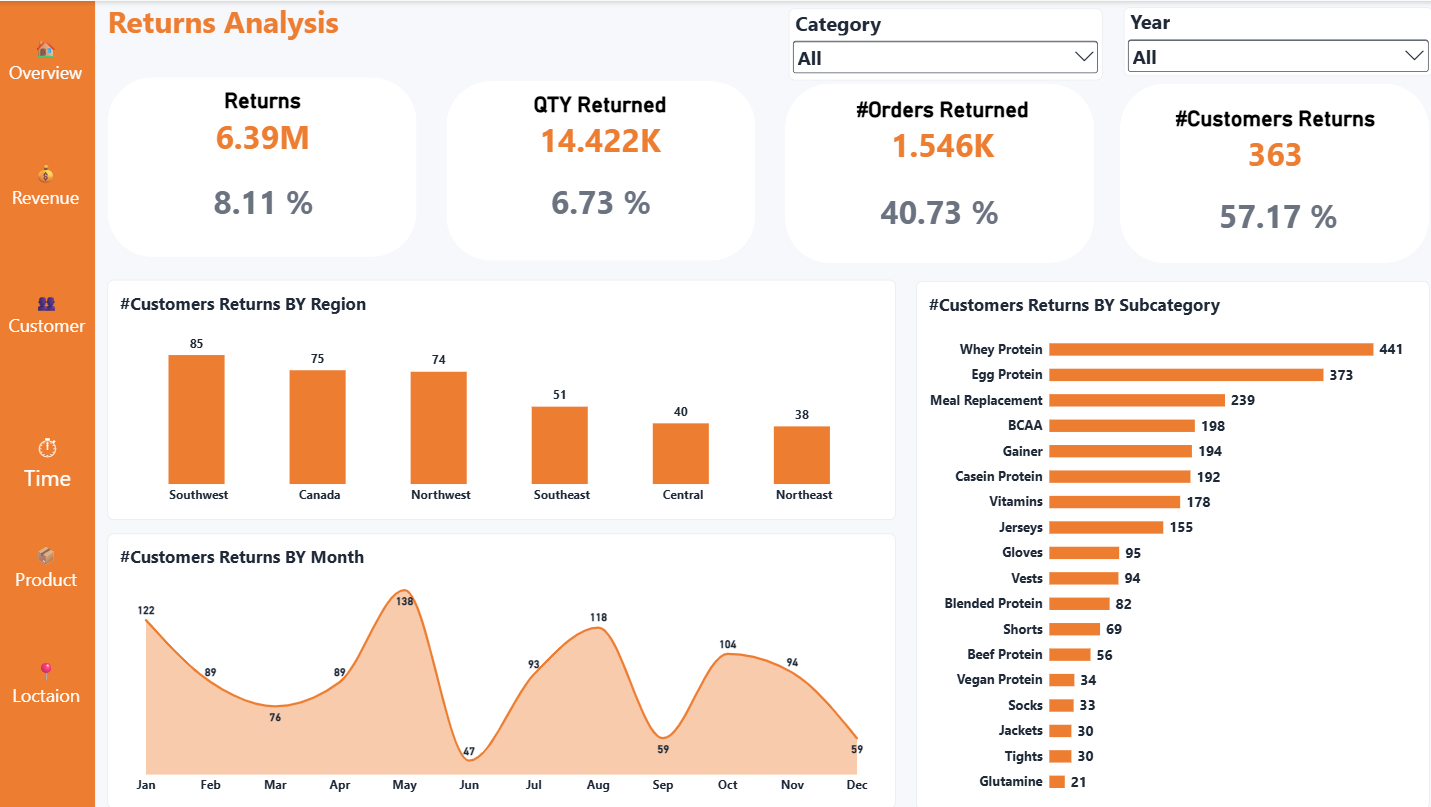

Layout of this report page (visuals, bound fields, positions):
{"tool":"powerbi","page":{"name":"↩   Returns Analysis","canvas":[1920,1080],"ordinal":3},"visuals":[{"type":"shape","box":[150,101.8,413,240],"z":0},{"type":"cardVisual","fields":{"Data":["Returns Calculations.Returns"]},"box":[215.3,101.3,284.3,134.1],"z":1000},{"type":"shape","box":[602.4,106.5,413,240],"z":2000},{"type":"cardVisual","fields":{"Data":["Returns Calculations.QTY Returned"]},"box":[666,106.8,284.3,134.1],"z":3000},{"type":"shape","box":[1054.7,110.7,413,240],"z":4000},{"type":"shape","box":[1503.6,110.7,413,240],"z":5000},{"type":"cardVisual","fields":{"Data":["Returns Calculations.#Orders Returned"]},"box":[1123.8,114,284.3,134.1],"z":6000},{"type":"cardVisual","fields":{"Data":["Returns Calculations.#Customers Returns"]},"box":[1558.1,124.9,305.9,133.5],"z":7000},{"type":"cardVisual","fields":{"Data":["Returns Calculations.Returns Amount%"]},"box":[217.2,222.6,283.6,105.7],"z":8000},{"type":"cardVisual","fields":{"Data":["Returns Calculations.QTY Returned%"]},"box":[667.8,222.6,283.6,105.7],"z":9000},{"type":"cardVisual","fields":{"Data":["Returns Calculations.Orders Returned%"]},"box":[1120.2,235.3,283.6,105.7],"z":10000},{"type":"cardVisual","fields":{"Data":["Returns Calculations.Cutomers Returns%"]},"box":[1572.6,240.7,283.6,105.7],"z":11000},{"type":"lineChart","title":"#Customers Returns BY Month","fields":{"Category":["Date Table.Month Name"],"Y":["Returns Calculations.#Customers Returns"]},"box":[150.1,711.8,1052.9,368.9],"z":13000},{"type":"columnChart","title":"#Customers Returns BY Region","fields":{"Category":["Customers.Region"],"Y":["Returns Calculations.#Customers Returns"]},"box":[150.1,372.6,1052.9,320.7],"z":14000},{"type":"clusteredBarChart","title":"#Customers Returns BY Subcategory","fields":{"Category":["Product.SubcategoryName"],"Y":["Returns Calculations.#Orders Returned"]},"box":[1230.4,373.2,685.8,708.1],"z":15000},{"type":"slicer","fields":{"Values":["Date Table.Year"]},"box":[1507.4,9,412.6,92.3],"z":16000},{"type":"slicer","fields":{"Values":["Product.CategoryName"]},"box":[1060.3,9.3,418.9,96.4],"z":17000},{"type":"shape","box":[1.8,0,132.1,1078.6],"z":18000},{"type":"actionButton","title":"🏠Overview","box":[5.4,34.4,124.9,90.5],"z":19000},{"type":"actionButton","title":"🏠Overview","box":[5.4,202.7,124.9,90.5],"z":20000},{"type":"actionButton","title":"🏠Overview","box":[5.4,372.8,128.5,90.5],"z":21000},{"type":"actionButton","title":"🏠Overview","box":[7.2,711.2,123.1,90.5],"z":22000},{"type":"actionButton","title":"🏠Overview","box":[7.2,866.8,123.1,90.5],"z":23000},{"type":"actionButton","title":"🏠Overview","box":[18.1,564.6,103.2,105],"z":24000},{"type":"actionButton","box":[150.6,0,886.9,101.7],"z":24001}]}

Visuals, with their boxes on the page's 1920x1080 design canvas (x1, y1, x2, y2). These are canvas units, not pixel positions in the 1431x807 screenshot, which may show the page scaled, cropped or inside an application window:
shape: <region>150, 102, 563, 342</region>
cardVisual - Returns Calculations.Returns: <region>215, 101, 500, 235</region>
shape: <region>602, 106, 1015, 346</region>
cardVisual - Returns Calculations.QTY Returned: <region>666, 107, 950, 241</region>
shape: <region>1055, 111, 1468, 351</region>
shape: <region>1504, 111, 1917, 351</region>
cardVisual - Returns Calculations.#Orders Returned: <region>1124, 114, 1408, 248</region>
cardVisual - Returns Calculations.#Customers Returns: <region>1558, 125, 1864, 258</region>
cardVisual - Returns Calculations.Returns Amount%: <region>217, 223, 501, 328</region>
cardVisual - Returns Calculations.QTY Returned%: <region>668, 223, 951, 328</region>
cardVisual - Returns Calculations.Orders Returned%: <region>1120, 235, 1404, 341</region>
cardVisual - Returns Calculations.Cutomers Returns%: <region>1573, 241, 1856, 346</region>
"#Customers Returns BY Month" lineChart: <region>150, 712, 1203, 1081</region>
"#Customers Returns BY Region" columnChart: <region>150, 373, 1203, 693</region>
"#Customers Returns BY Subcategory" clusteredBarChart: <region>1230, 373, 1916, 1081</region>
slicer - Date Table.Year: <region>1507, 9, 1920, 101</region>
slicer - Product.CategoryName: <region>1060, 9, 1479, 106</region>
shape: <region>2, 0, 134, 1079</region>
"🏠Overview" actionButton: <region>5, 34, 130, 125</region>
"🏠Overview" actionButton: <region>5, 203, 130, 293</region>
"🏠Overview" actionButton: <region>5, 373, 134, 463</region>
"🏠Overview" actionButton: <region>7, 711, 130, 802</region>
"🏠Overview" actionButton: <region>7, 867, 130, 957</region>
"🏠Overview" actionButton: <region>18, 565, 121, 670</region>
actionButton: <region>151, 0, 1038, 102</region>
